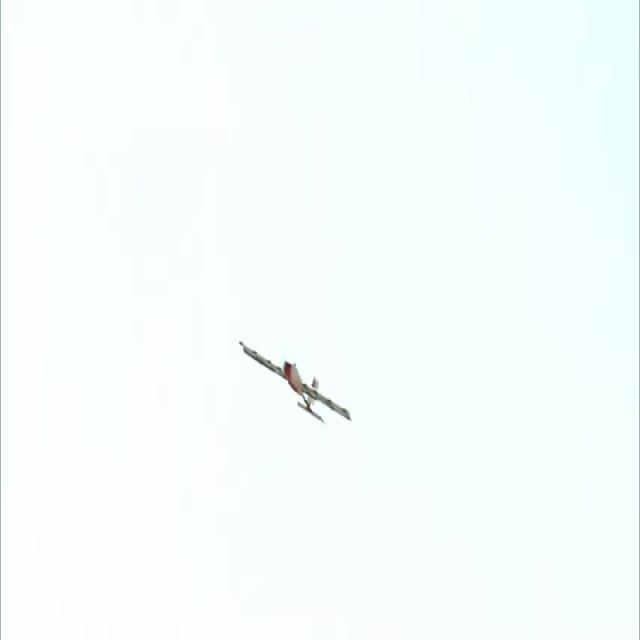iha: (270, 370, 320, 391)
